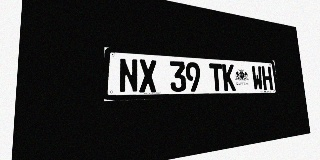3: (169, 61, 186, 92)
9: (185, 62, 201, 92)
H: (261, 66, 273, 90)
K: (222, 64, 236, 91)
N: (119, 58, 139, 93)
T: (209, 63, 224, 91)
W: (251, 66, 263, 90)
X: (139, 59, 157, 93)
